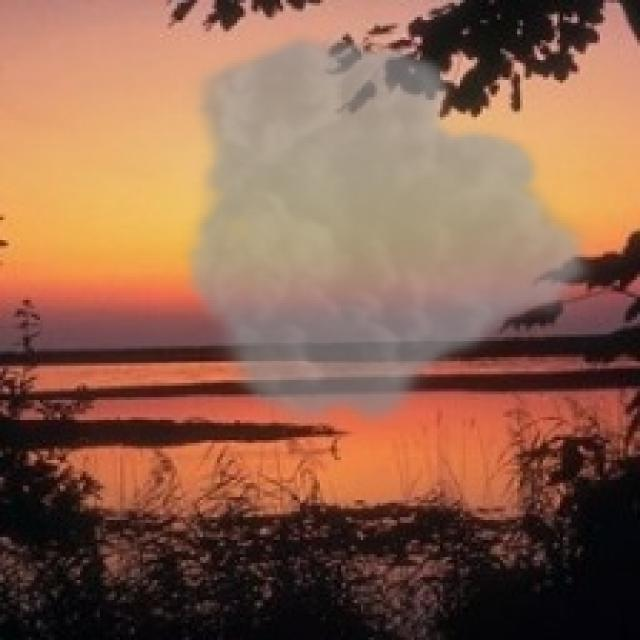smoke: (180, 29, 600, 437)
